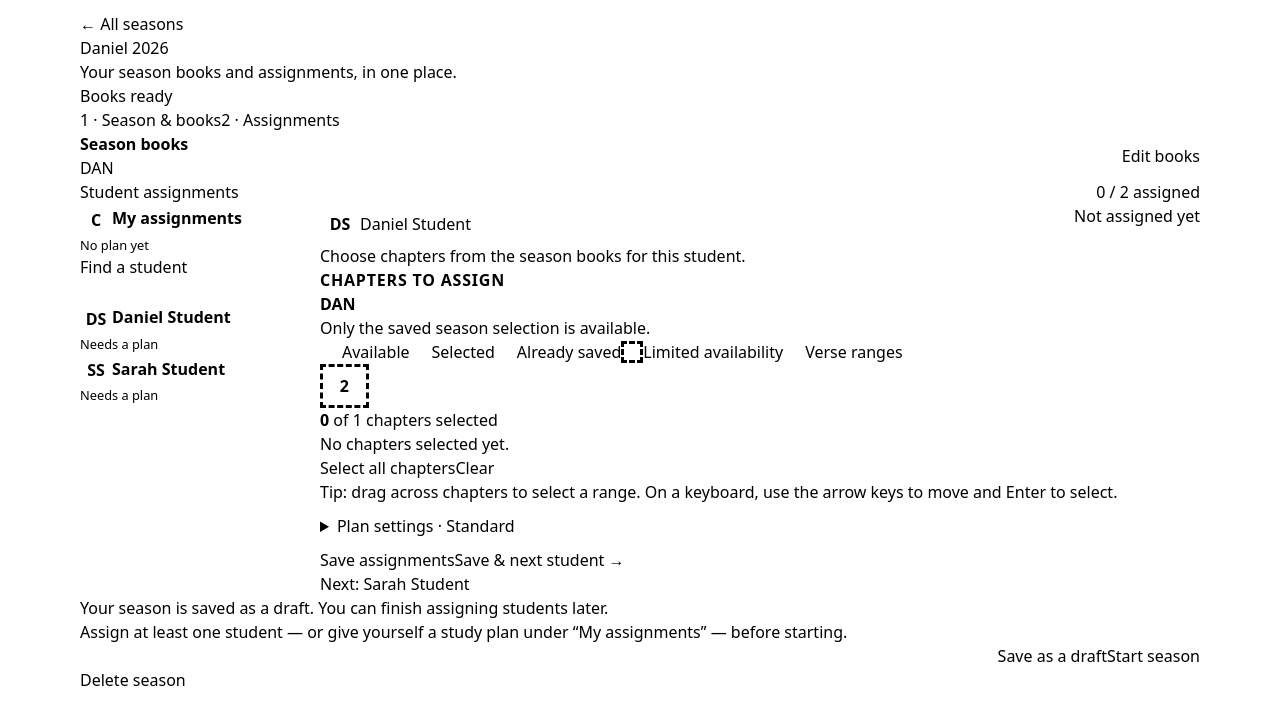
Test: Two-step season planner › keeps selection and student on a failed save
Click the button "Select all chapters" at (388, 468), box [320,456,455,480]
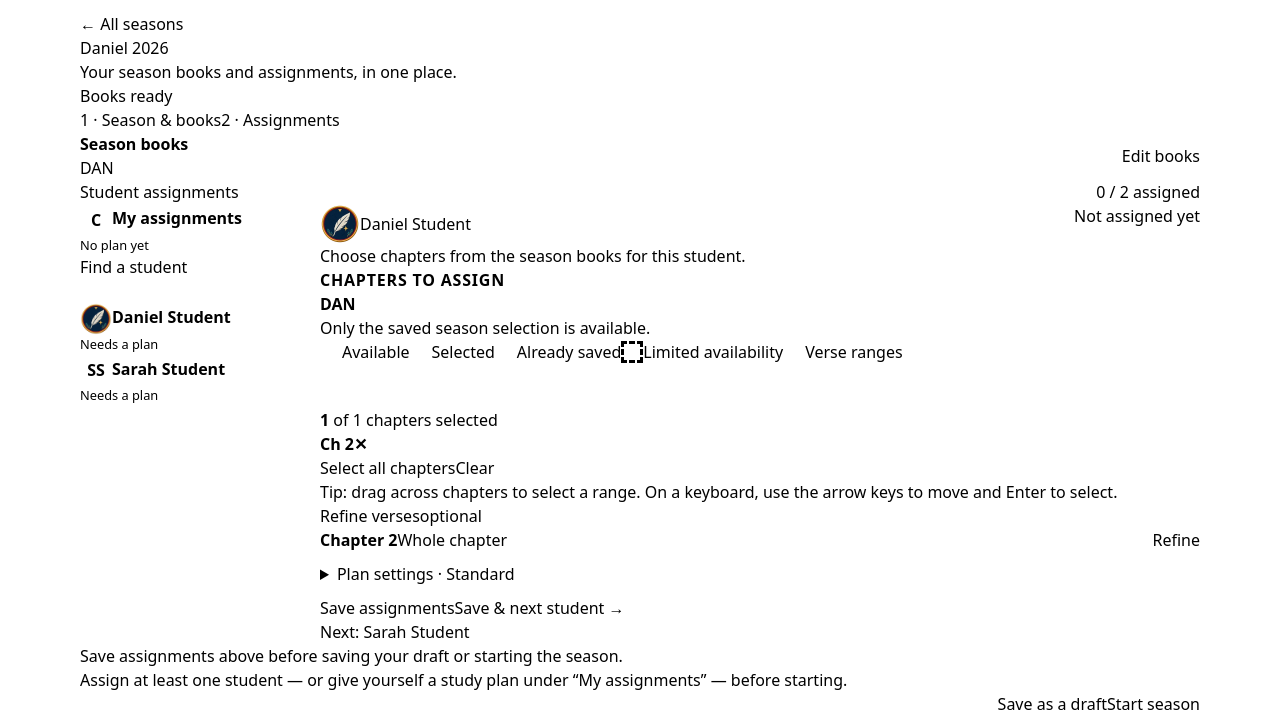
Click the button "Save & next student →" at (540, 608), box [454,596,624,620]
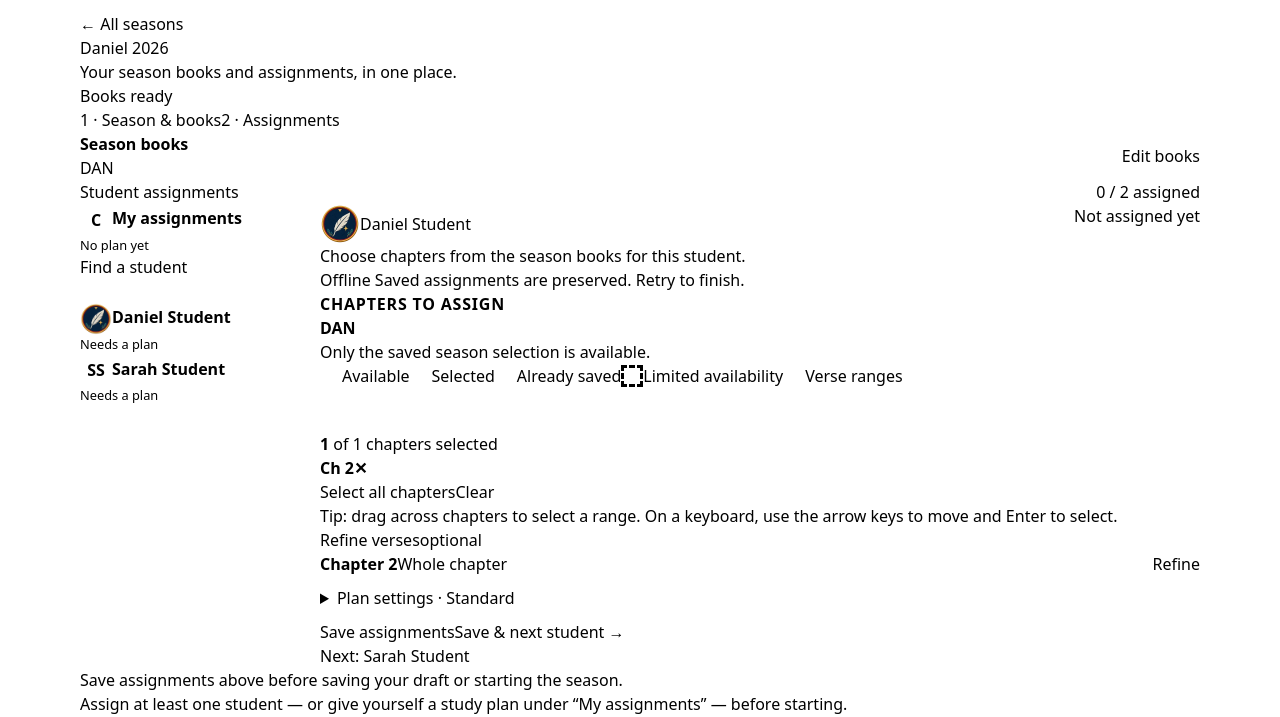
Expected: the heading "Daniel Student" is shown, [360,212,471,236]
Expected: the element showing "1 of 1 chapters selected" is shown, [320,433,498,455]
Expected: the message shows "Offline", [320,269,371,291]
